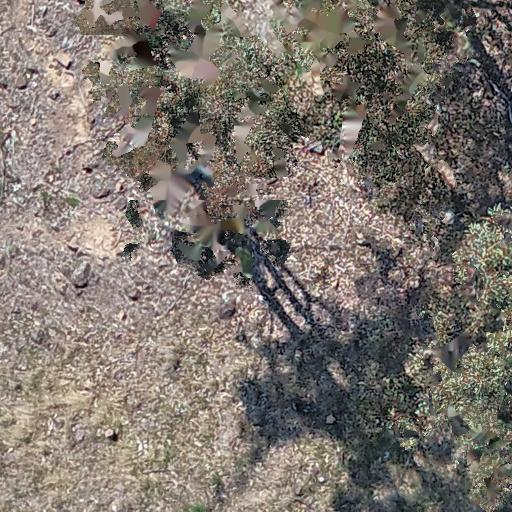stone: (69, 260, 92, 290), (56, 52, 74, 68), (30, 327, 44, 345), (92, 186, 112, 198), (14, 72, 28, 88), (324, 412, 338, 426), (74, 429, 88, 443), (105, 428, 116, 442), (129, 288, 140, 301), (316, 470, 325, 484)
